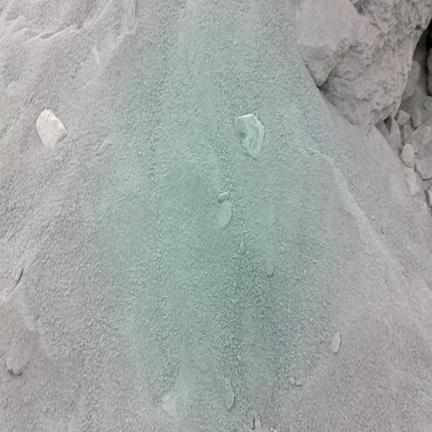Rock: (321, 0, 431, 124), (297, 0, 359, 85), (235, 114, 264, 158), (36, 110, 67, 148), (376, 117, 402, 156), (413, 125, 431, 179), (402, 61, 420, 100), (218, 201, 231, 227), (400, 144, 414, 168), (401, 122, 413, 144), (331, 332, 341, 353), (396, 110, 410, 125), (427, 49, 431, 95), (425, 188, 431, 208)
